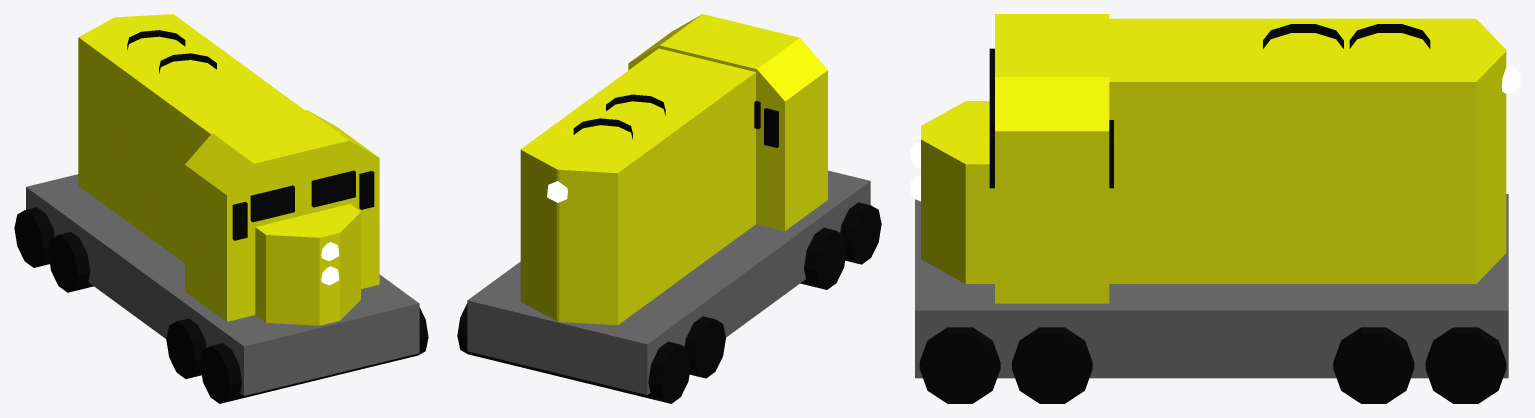
3 views of the same model, side by side, from view 1: azimuth 30°, elevation 25°; view 2: azimuth 150°, elevation 25°; view 3: azimuth 270°, elevation 25° (orthographic). The views are drawn at different scales.
Parts seen in each view (by area): view 1: Gp15; view 2: Gp15; view 3: Gp15.
Part boxes in pixels (left/top/right/bottom): Gp15: left=14, top=14, right=428, bottom=403; Gp15: left=457, top=14, right=881, bottom=403; Gp15: left=910, top=14, right=1520, bottom=403.
Bounding box in the file's own units: 2.26 × 2.38 × 4.42.
